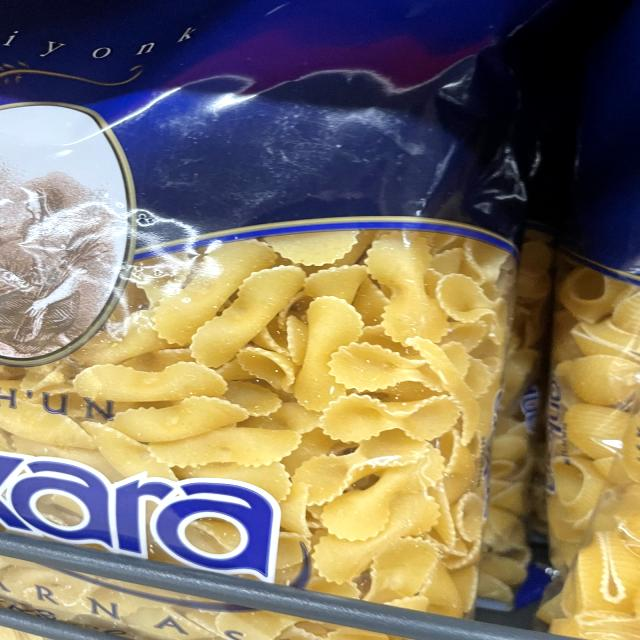farfalle pasta: (5, 156, 540, 640)
